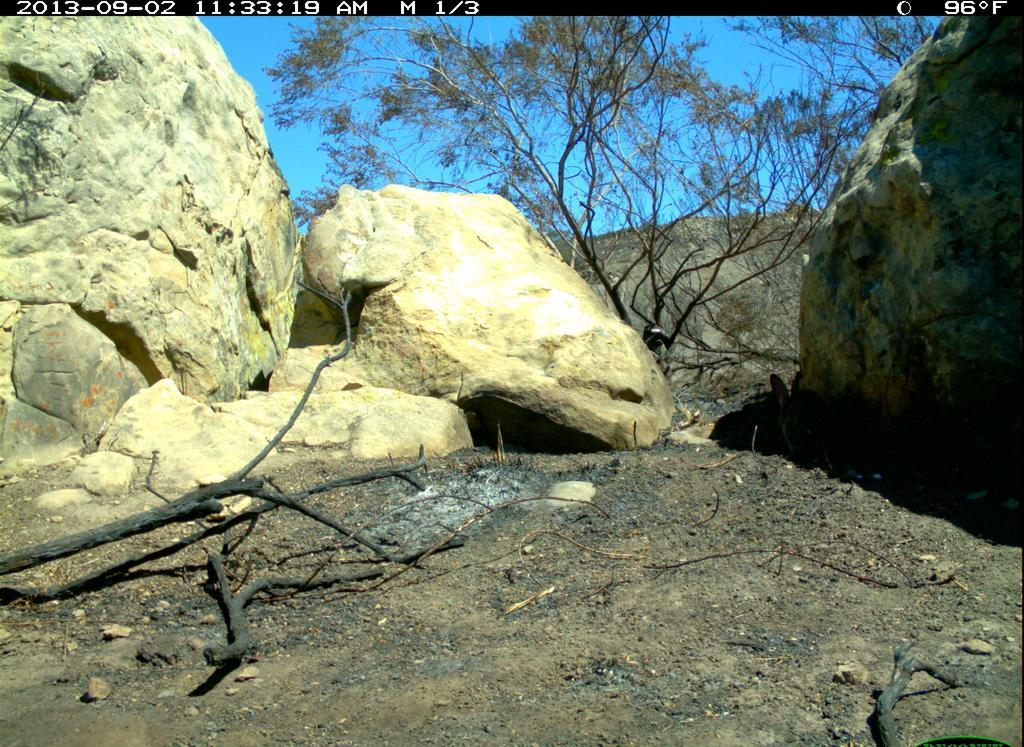rabbit: (767, 368, 832, 469)
